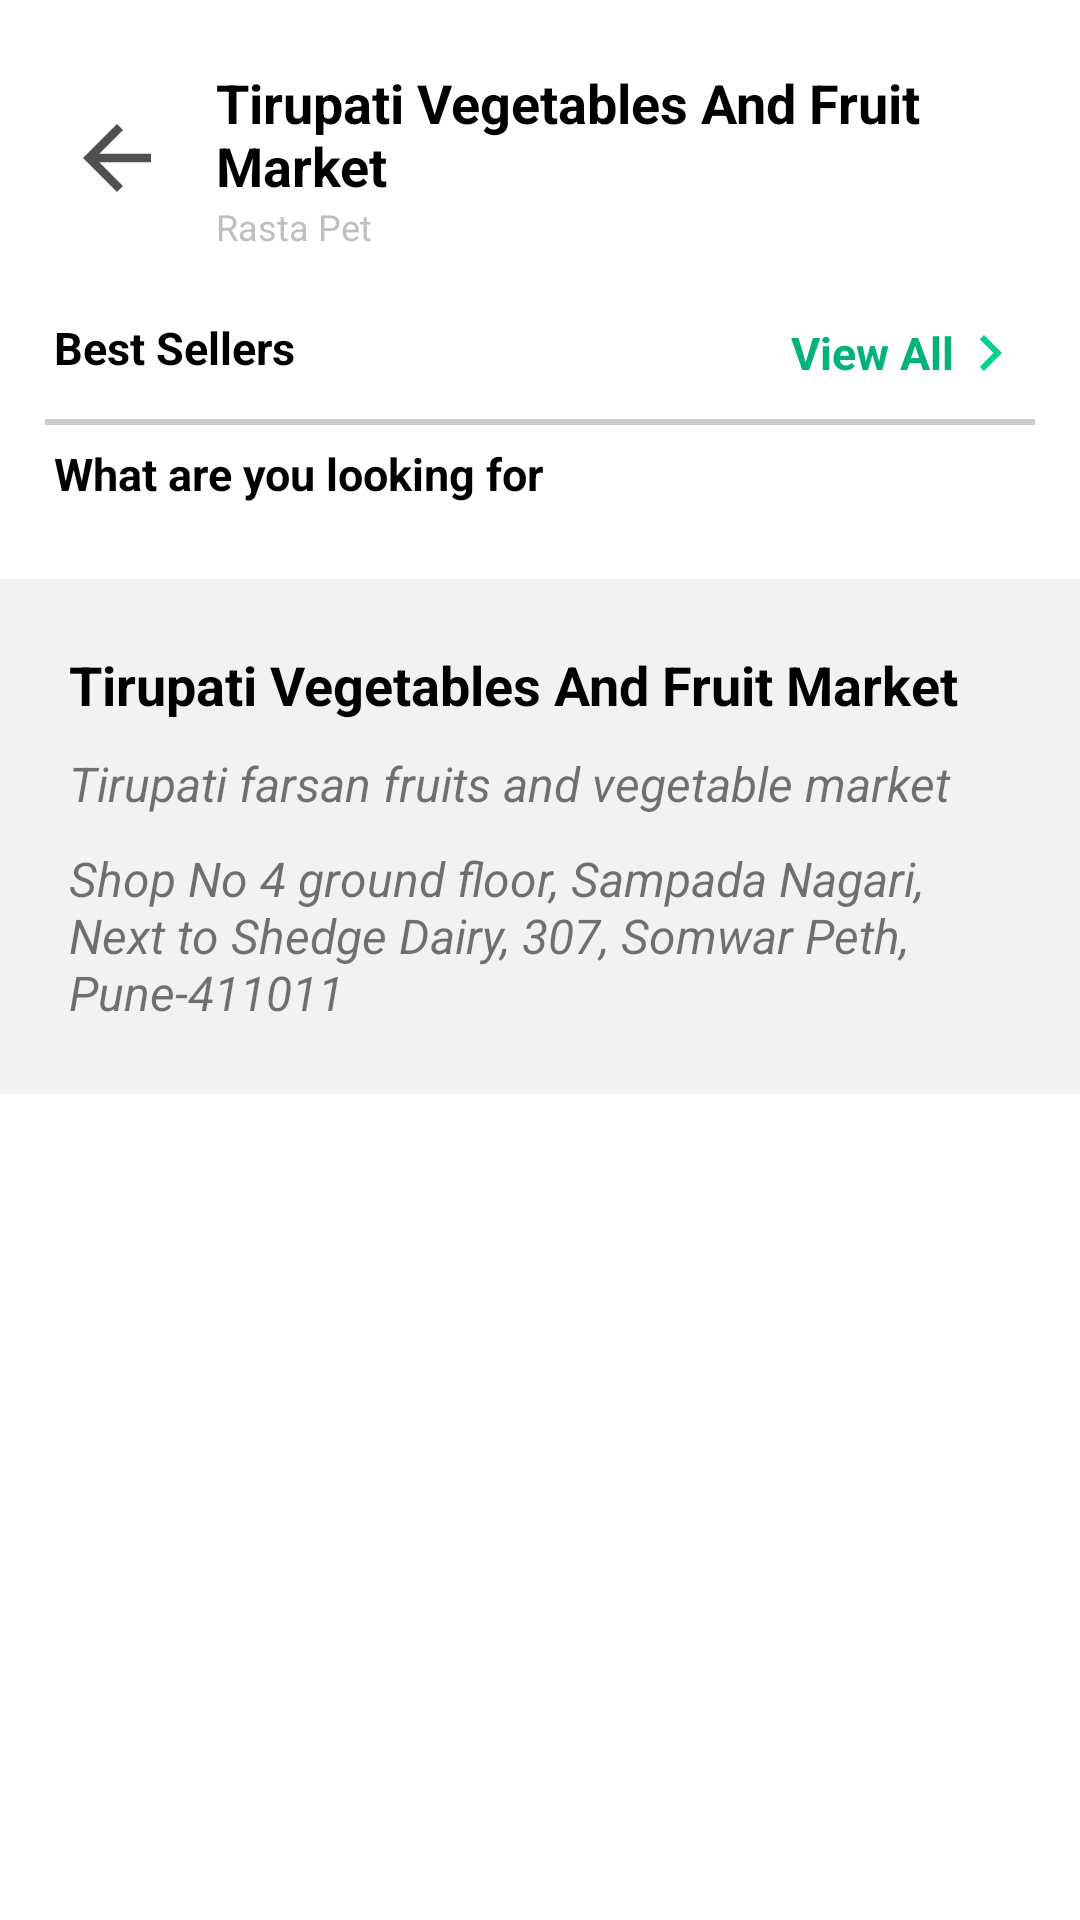

Icon click points for this 1080px×1920px phone screenshot, format (x=x, y=y):
back arrow: (x=117, y=158)
